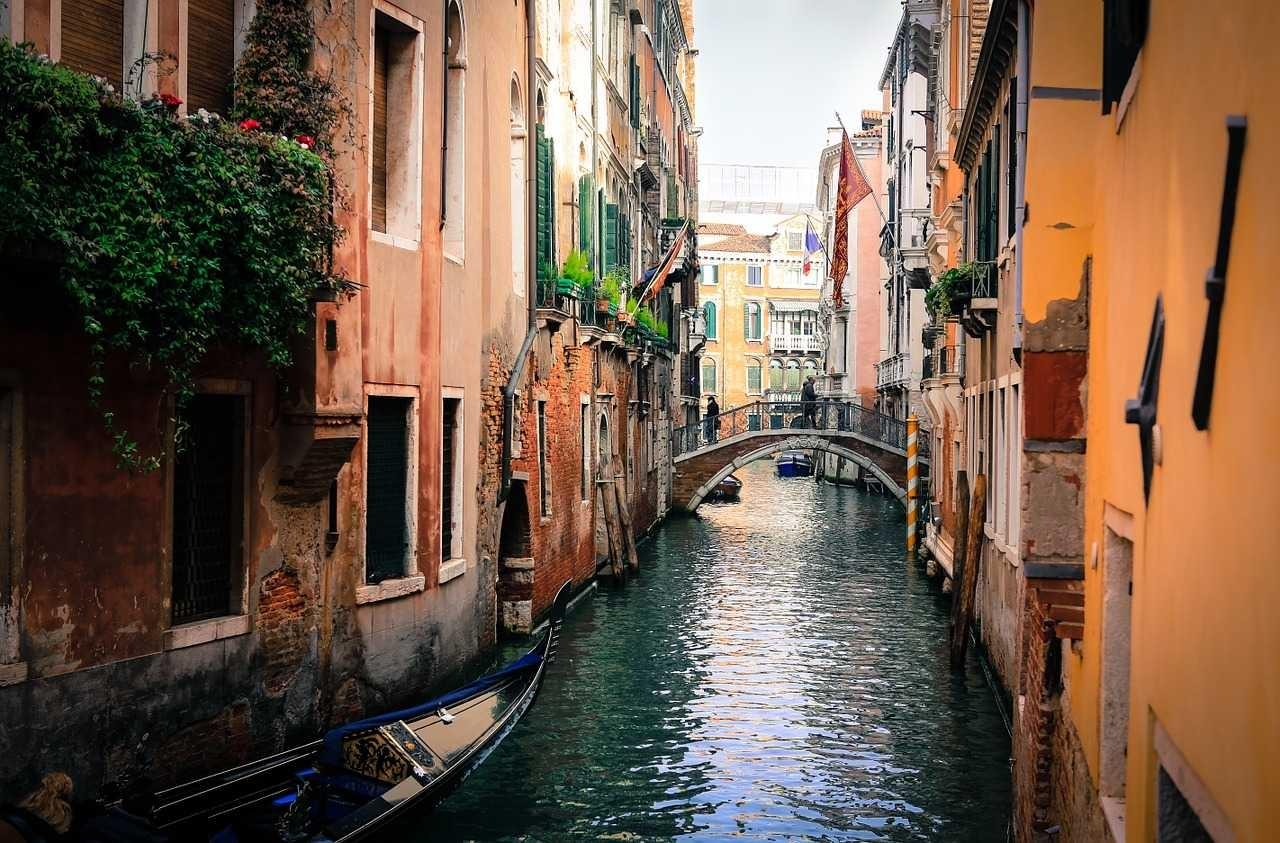kayak: (203, 621, 556, 840), (776, 451, 813, 476), (714, 477, 742, 500)
